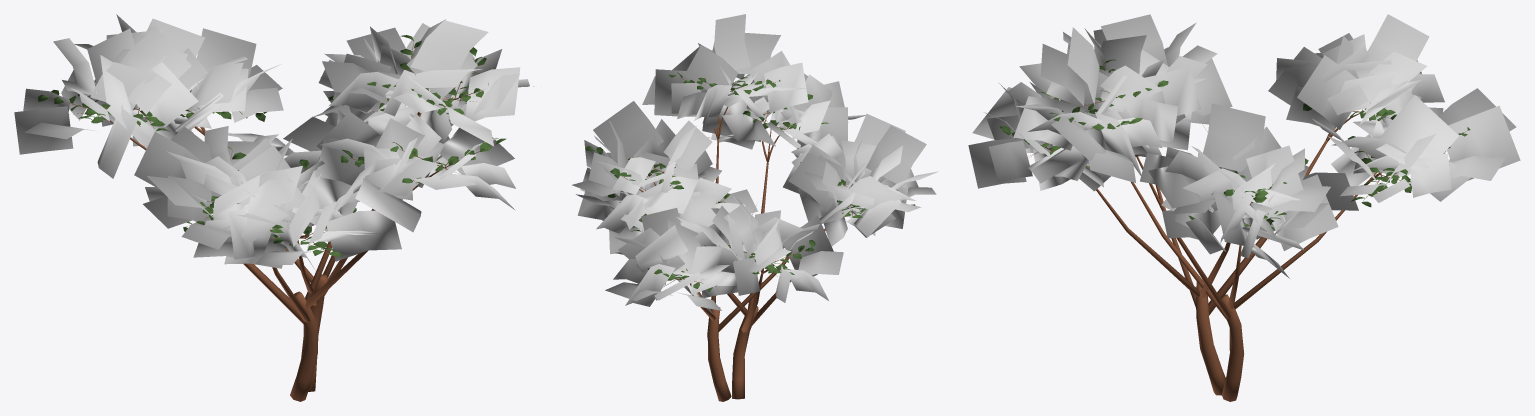
File: V7_Arbousier_0_Niveau0.fbx
3 views of the same model, side by side, from view 1: azimuth 30°, elevation 25°; view 2: azimuth 150°, elevation 25°; view 3: azimuth 270°, elevation 25° (orthographic). The views are drawn at different scales.
Parts seen in each view (by area): view 1: V7_Arbousier_0; view 2: V7_Arbousier_0; view 3: V7_Arbousier_0.
Boxes of the visible parts, <box> form: V7_Arbousier_0: <box>14,14,533,401</box>; V7_Arbousier_0: <box>572,14,938,401</box>; V7_Arbousier_0: <box>968,14,1520,401</box>.
Size of the model in its own units: 344 by 349 by 439.
